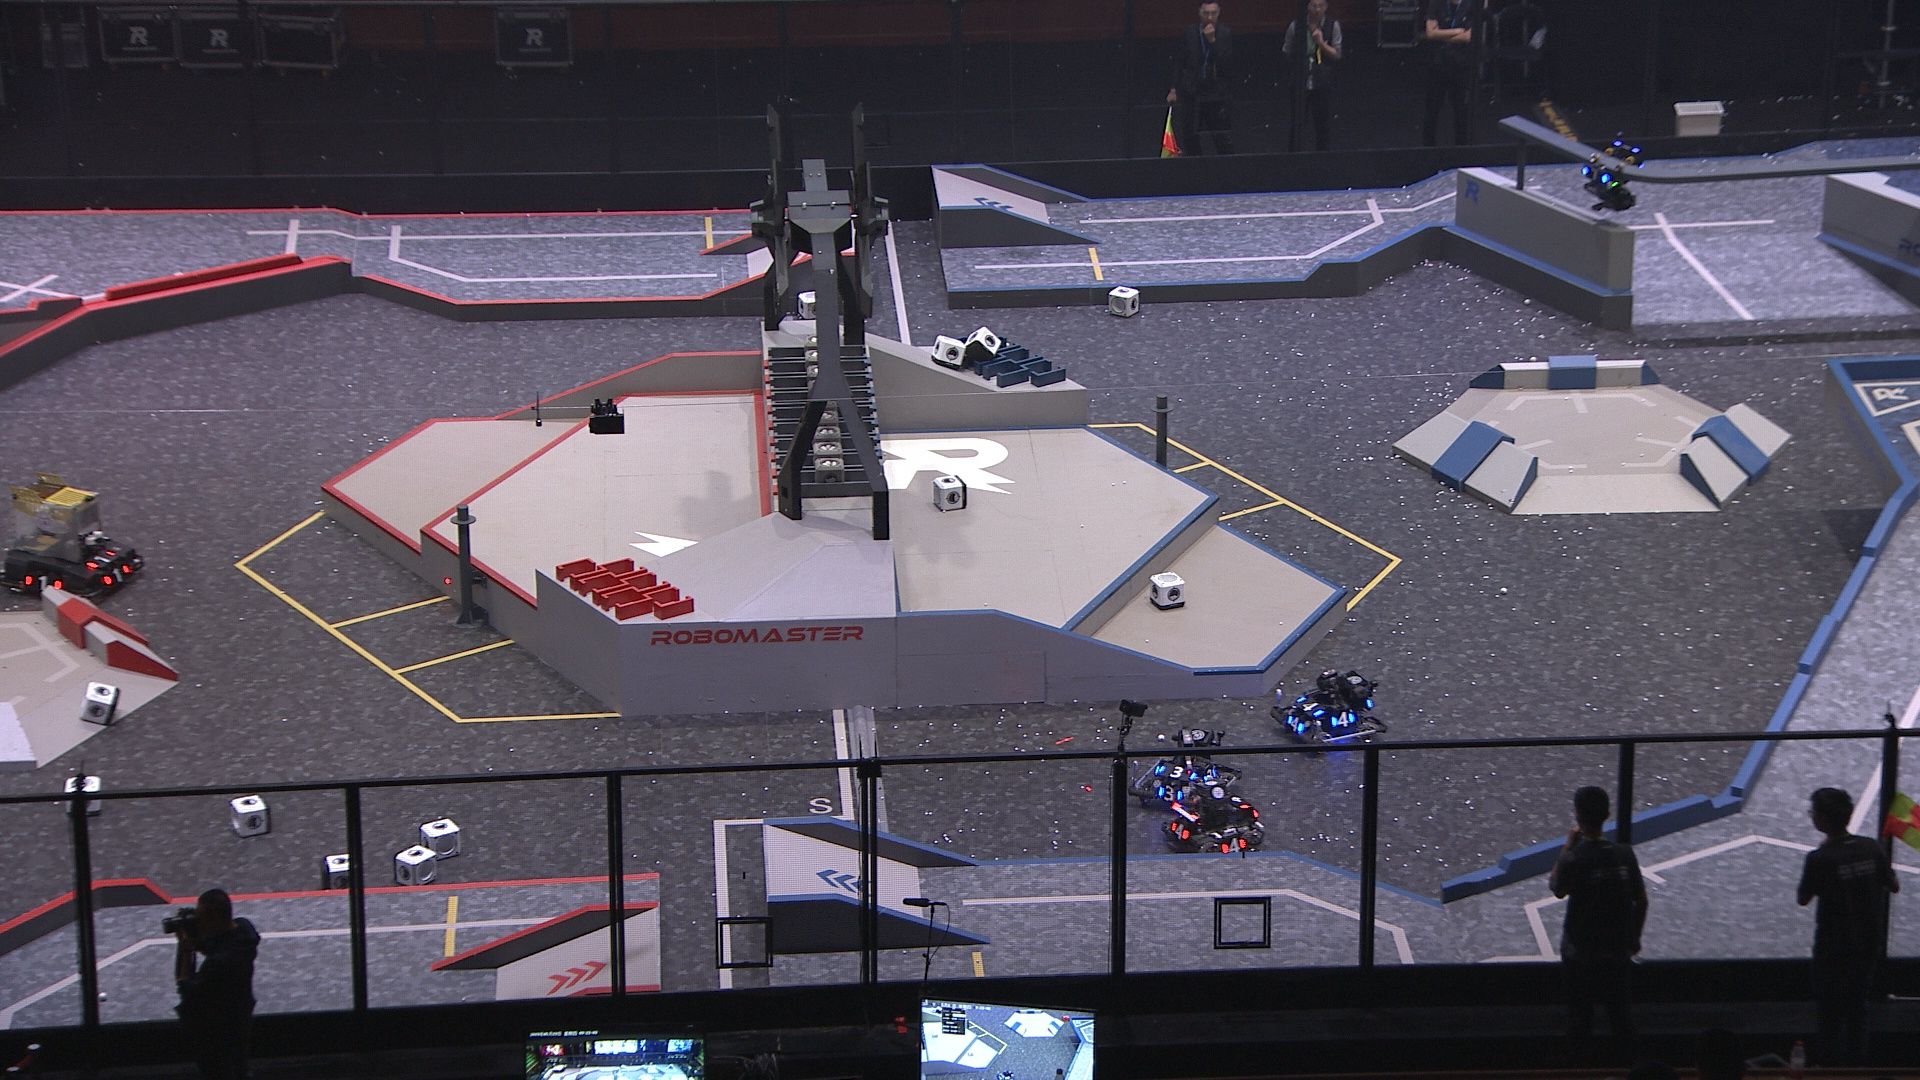armor: (84, 545, 115, 571), (22, 572, 63, 589), (1159, 764, 1200, 781), (1578, 162, 1609, 185), (103, 562, 131, 585), (1298, 698, 1325, 717), (1329, 711, 1356, 731), (1286, 712, 1307, 736), (1156, 785, 1185, 802), (1221, 837, 1247, 855), (1168, 822, 1191, 841), (1230, 796, 1250, 814), (1203, 767, 1218, 785)
car: (1162, 775, 1265, 864), (1276, 670, 1389, 750), (1131, 725, 1240, 808)
watcher: (1576, 135, 1643, 214)
